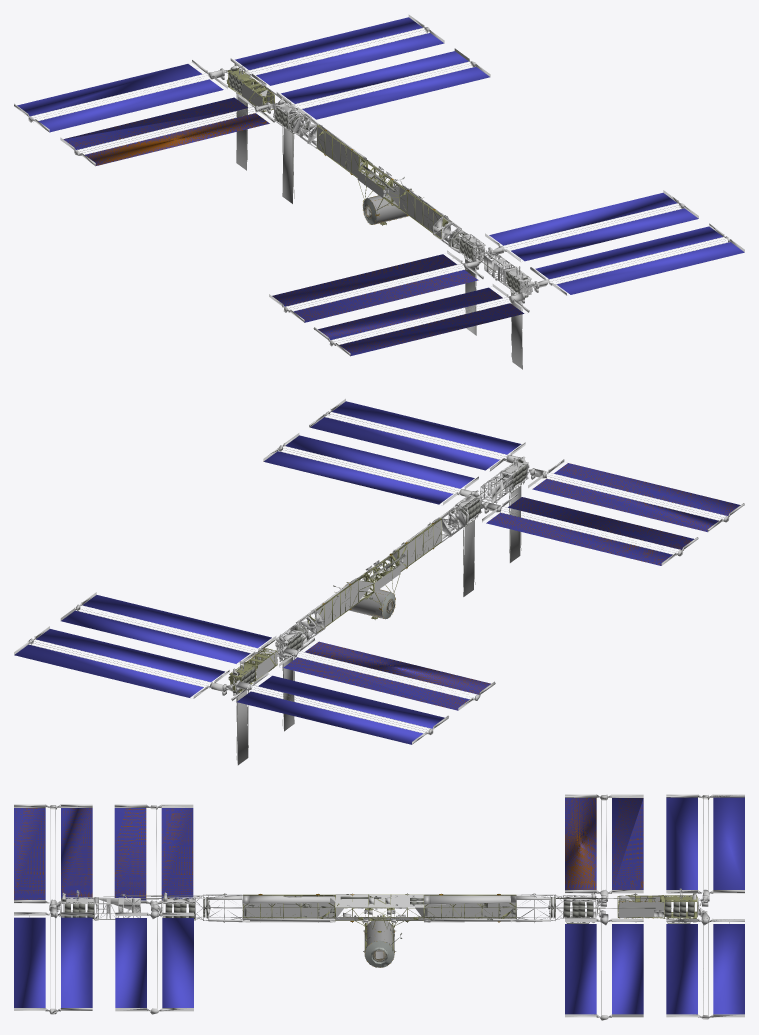
The model's file is iss.obj.
The picture shows the model from 3 angles, top to bottom: view 1: azimuth 30°, elevation 25°; view 2: azimuth 150°, elevation 25°; view 3: azimuth 270°, elevation 25°; orthographic projection. The views are drawn at different scales.
Visible parts, largest first — view 1: papi-ani_w_goldcells_Untitled.032, paso-ani_w_goldcells_Untitled.013, pasi-ani_w_goldcells_Untitled.003, papo-ani_w_goldcells_Untitled.040, p6-ani_Untitled.011, lab-ext_Untitled.006; view 2: papo-ani_w_goldcells_Untitled.040, paso-ani_w_goldcells_Untitled.013, pasi-ani_w_goldcells_Untitled.003, papi-ani_w_goldcells_Untitled.032, p6-ani_Untitled.011, lab-ext_Untitled.006; view 3: p6-ani_Untitled.011, papo-ani_w_goldcells_Untitled.040, papi-ani_w_goldcells_Untitled.032, paso-ani_w_goldcells_Untitled.013, pasi-ani_w_goldcells_Untitled.003, lab-ext_Untitled.006.
Part boxes in pixels (x1,y1,x2,y2): papi-ani_w_goldcells_Untitled.032: [60, 48, 490, 166]; paso-ani_w_goldcells_Untitled.013: [313, 223, 744, 356]; pasi-ani_w_goldcells_Untitled.003: [269, 190, 698, 322]; papo-ani_w_goldcells_Untitled.040: [14, 14, 444, 132]; p6-ani_Untitled.011: [220, 63, 539, 369]; lab-ext_Untitled.006: [362, 177, 413, 225]; papo-ani_w_goldcells_Untitled.040: [14, 626, 448, 744]; paso-ani_w_goldcells_Untitled.013: [309, 398, 744, 532]; pasi-ani_w_goldcells_Untitled.003: [263, 433, 698, 565]; papi-ani_w_goldcells_Untitled.032: [60, 592, 495, 710]; p6-ani_Untitled.011: [222, 456, 535, 765]; lab-ext_Untitled.006: [333, 582, 395, 619]; p6-ani_Untitled.011: [49, 888, 709, 950]; papo-ani_w_goldcells_Untitled.040: [666, 794, 744, 1019]; papi-ani_w_goldcells_Untitled.032: [565, 794, 643, 1020]; paso-ani_w_goldcells_Untitled.013: [14, 804, 92, 1014]; pasi-ani_w_goldcells_Untitled.003: [114, 804, 193, 1014]; lab-ext_Untitled.006: [363, 921, 402, 967].
Bounding box in the file's own units: 49.03 × 11.65 × 70.29.
